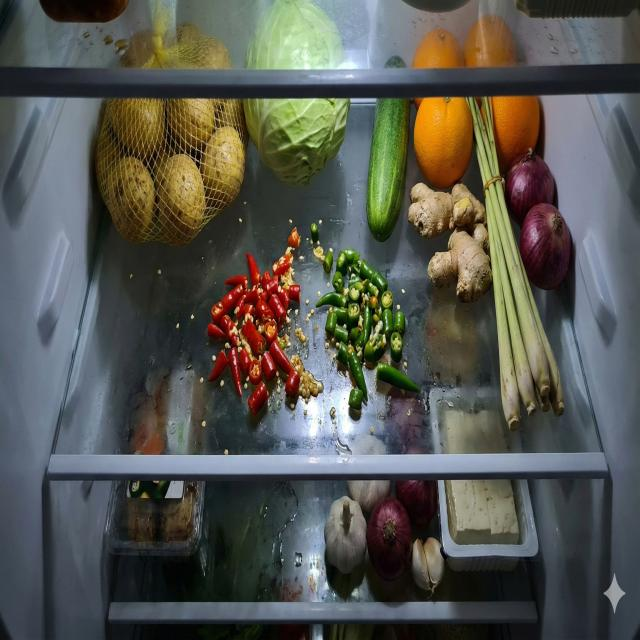cabbage: (243, 0, 351, 189)
chili: (316, 248, 421, 412), (207, 253, 300, 415)
cucumber: (366, 55, 411, 243)
garlic: (324, 480, 391, 575), (412, 537, 445, 593)
ginger: (408, 182, 492, 304)
lemongrass: (464, 96, 565, 433)
onion: (505, 148, 571, 292), (367, 496, 413, 581)
orange: (414, 97, 473, 190), (480, 95, 540, 175), (462, 15, 516, 67), (412, 28, 465, 69)
potato: (95, 22, 250, 248)
tofu: (444, 409, 520, 545)
